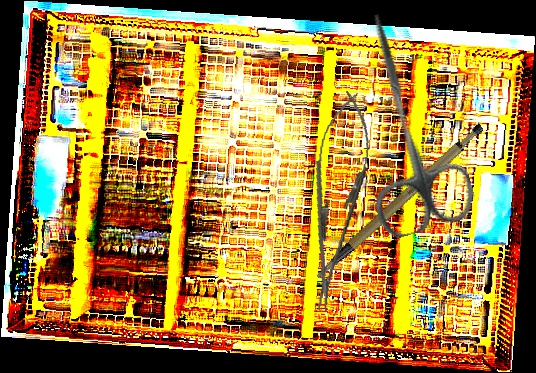Iris Scissors: (324, 2, 481, 242)
Needle Holder: (294, 88, 379, 315)
Scalpel Handle: (294, 120, 502, 279)
